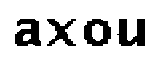a: (10, 15, 42, 49)
o: (81, 15, 114, 47)
u: (117, 17, 149, 50)
x: (43, 13, 79, 48)
